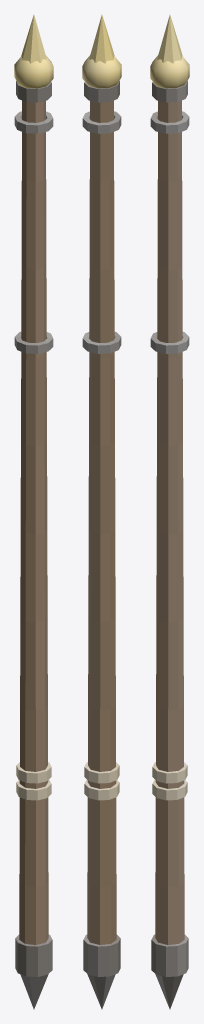
The model's file is pole_tall.glb.
The picture shows the model from 3 angles, left to right: view 1: azimuth 30°, elevation 25°; view 2: azimuth 150°, elevation 25°; view 3: azimuth 330°, elevation 25°; orthographic projection.
Parts seen in each view (by area): view 1: Wood, Iron, Brass, Rope; view 2: Wood, Iron, Brass, Rope; view 3: Wood, Iron, Brass, Rope.
Boxes of the visible parts, left/top/right/bottom form: Wood: left=19, top=100, right=48, bottom=944; Iron: left=14, top=81, right=53, bottom=1009; Brass: left=14, top=15, right=53, bottom=88; Rope: left=16, top=762, right=51, bottom=800; Wood: left=87, top=100, right=116, bottom=944; Iron: left=82, top=81, right=121, bottom=1009; Brass: left=82, top=15, right=121, bottom=88; Rope: left=84, top=762, right=119, bottom=800; Wood: left=155, top=100, right=184, bottom=944; Iron: left=150, top=81, right=189, bottom=1009; Brass: left=150, top=15, right=189, bottom=88; Rope: left=152, top=762, right=187, bottom=800.
Size of the model in its own units: 0.1065 by 2.94 by 0.1013.
